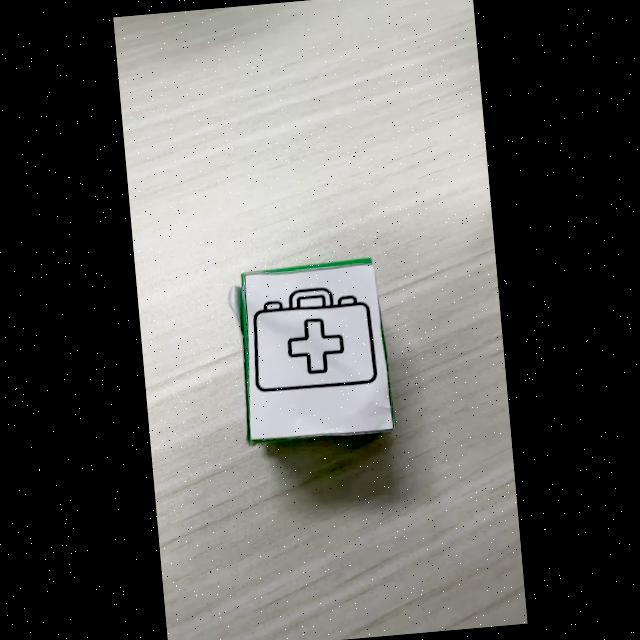Medkit: (252, 287, 379, 392)
